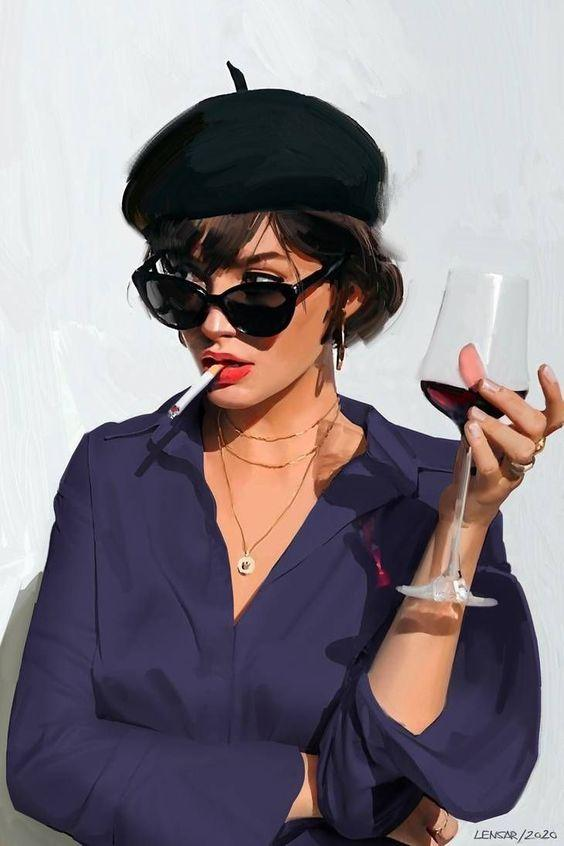cigarette: (168, 363, 226, 420)
